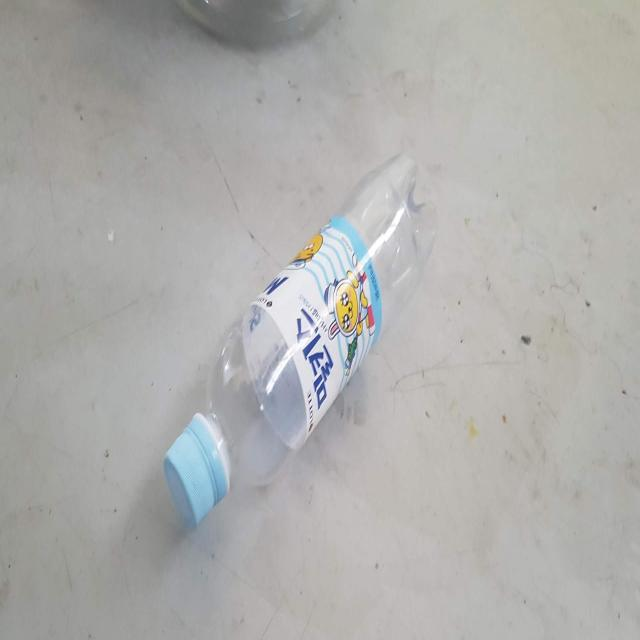plastic: (164, 154, 436, 527)
